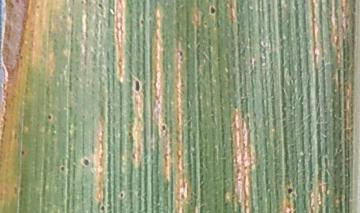tarspot: (132, 76, 143, 95), (80, 156, 93, 168), (158, 121, 169, 134), (56, 162, 67, 175), (207, 4, 218, 16), (43, 111, 55, 122), (284, 184, 295, 195), (117, 189, 127, 200), (98, 202, 107, 213)
